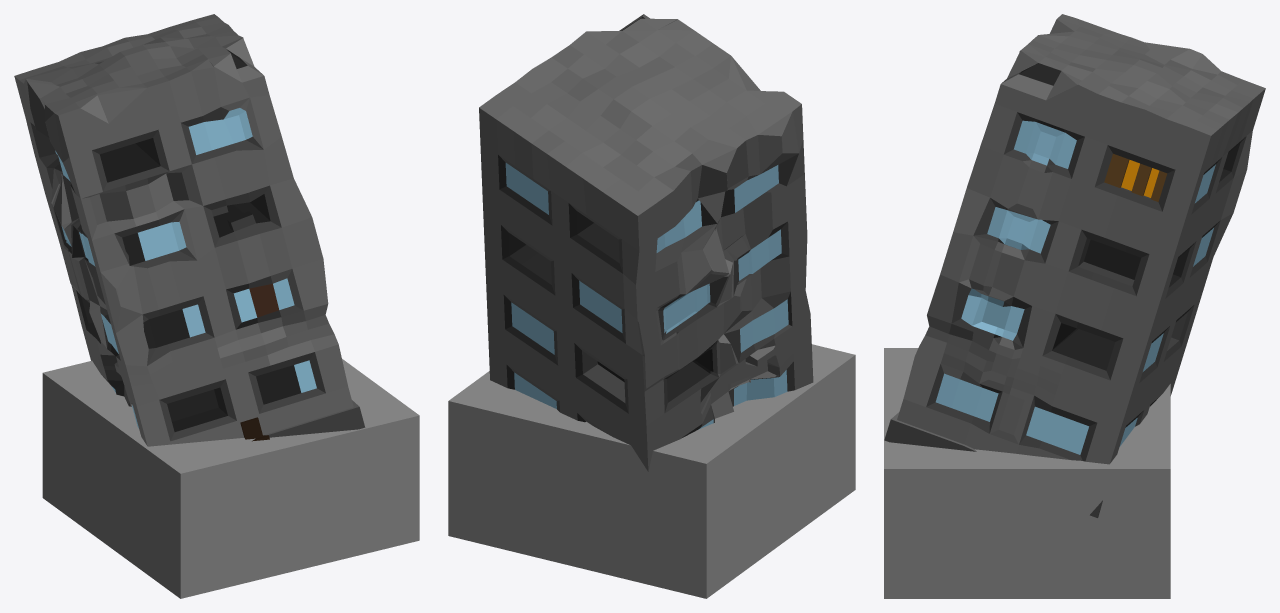
File: DSkyscraper2.fbx
3 renders of one model, left to right at view 1: azimuth 30°, elevation 25°; view 2: azimuth 150°, elevation 25°; view 3: azimuth 270°, elevation 25°, orthographic. The views are drawn at different scales.
Visible parts, largest first — view 1: Cube.008; view 2: Cube.008; view 3: Cube.008.
Boxes of the visible parts, x1=… form: Cube.008: x1=14, y1=14, x2=419, y2=598; Cube.008: x1=448, y1=14, x2=855, y2=598; Cube.008: x1=884, y1=14, x2=1265, y2=598.
Size of the model in its own units: 232 by 368 by 267.
1 material, 1 textured.
